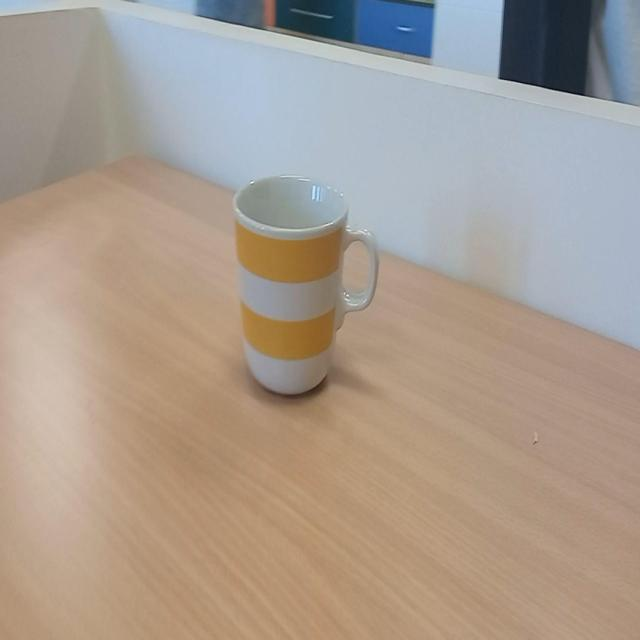cup: (216, 128, 394, 453)
